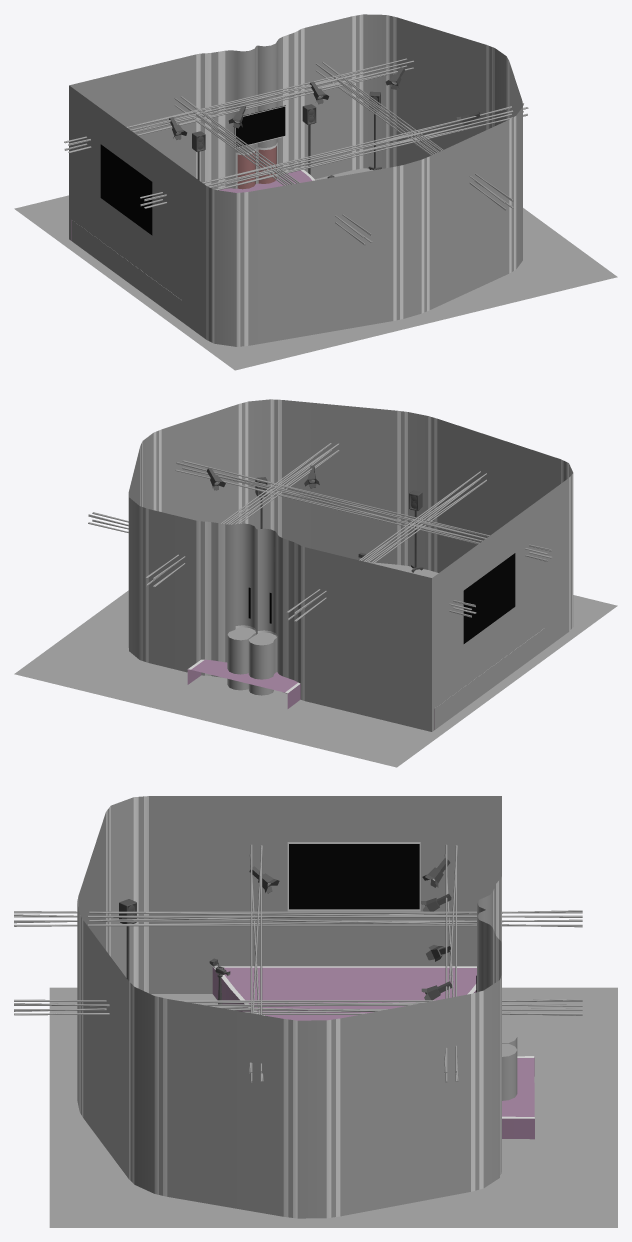
The model's file is Studio_Set.fbx.
The picture shows the model from 3 angles, top to bottom: view 1: azimuth 30°, elevation 25°; view 2: azimuth 150°, elevation 25°; view 3: azimuth 270°, elevation 25°; orthographic projection. The views are drawn at different scales.
Visible parts, largest first — view 1: polySurface28, pPlane5, pCylinder96, Mockup_Set_Back_Screen1, Mockup_Set_Main_Screen1, polySurface40, polySurface29; view 2: polySurface28, pPlane5, pCylinder96, Mockup_Set_Back_Screen1, polySurface40; view 3: polySurface28, pPlane5, pCylinder96, polySurface40, Mockup_Set_Back_Screen1.
Boxes of the visible parts, bbox=[...] form: polySurface28: bbox=[69, 14, 522, 346]; pPlane5: bbox=[14, 168, 617, 370]; pCylinder96: bbox=[64, 58, 528, 245]; Mockup_Set_Back_Screen1: bbox=[100, 144, 152, 235]; Mockup_Set_Main_Screen1: bbox=[234, 105, 285, 148]; polySurface40: bbox=[71, 169, 314, 296]; polySurface29: bbox=[237, 151, 255, 189]; polySurface28: bbox=[128, 399, 573, 731]; pPlane5: bbox=[14, 562, 617, 767]; pCylinder96: bbox=[88, 443, 552, 621]; Mockup_Set_Back_Screen1: bbox=[463, 553, 515, 643]; polySurface40: bbox=[187, 629, 542, 729]; polySurface28: bbox=[77, 796, 517, 1218]; pPlane5: bbox=[49, 987, 617, 1227]; pCylinder96: bbox=[14, 844, 582, 1082]; polySurface40: bbox=[212, 966, 534, 1139]; Mockup_Set_Back_Screen1: bbox=[287, 842, 420, 911].
Size of the model in its own units: 60.37 by 22.69 by 62.2.
